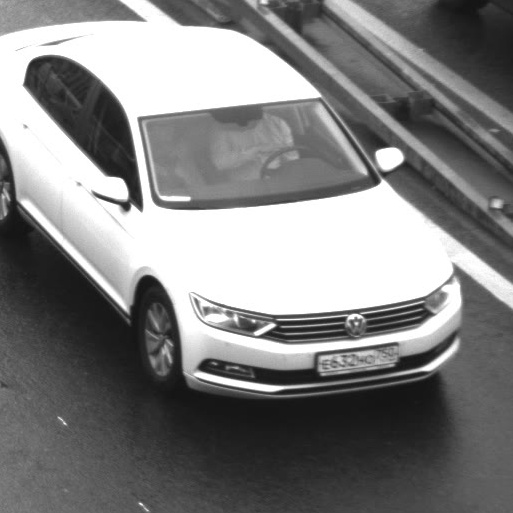plate: (302, 331, 410, 380)
